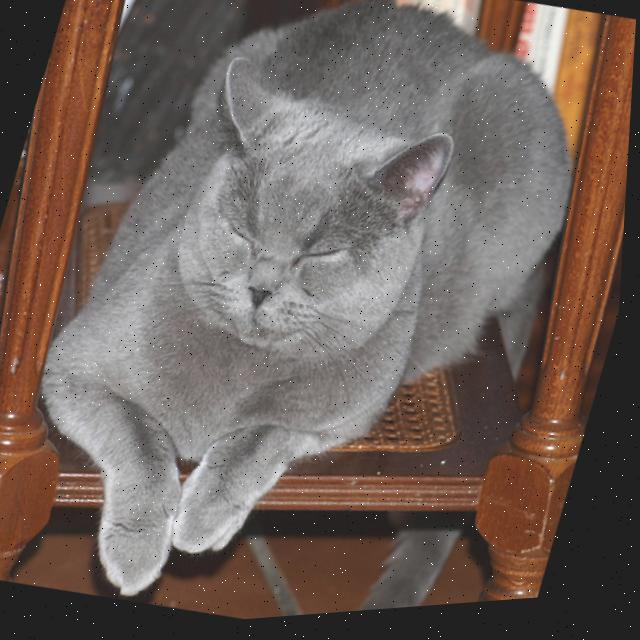British Shorthair: (0, 0, 631, 640)
